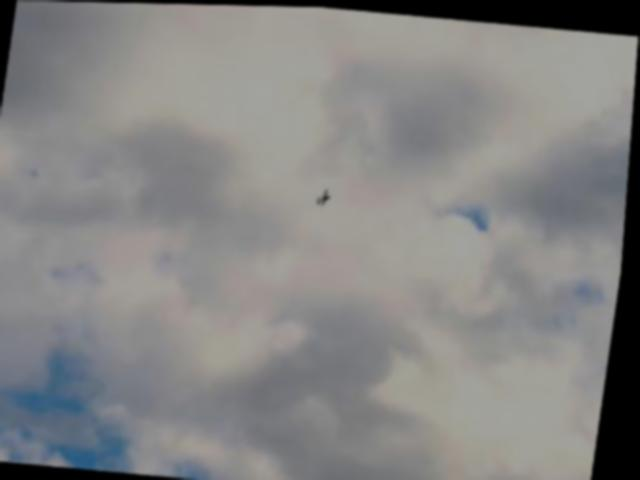uav: (320, 182, 335, 209)
